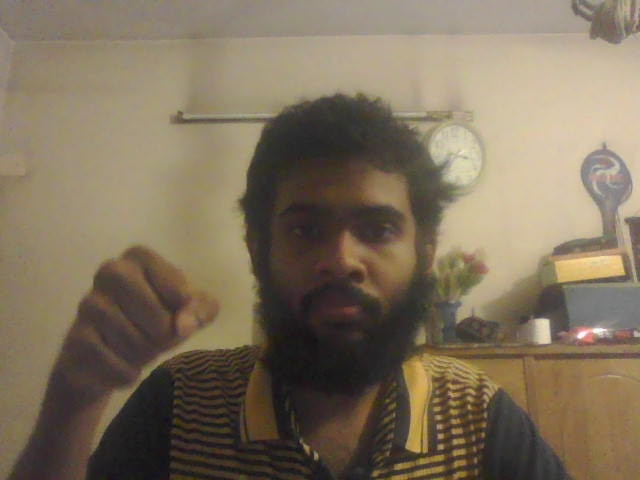Yes: (48, 248, 220, 387)
